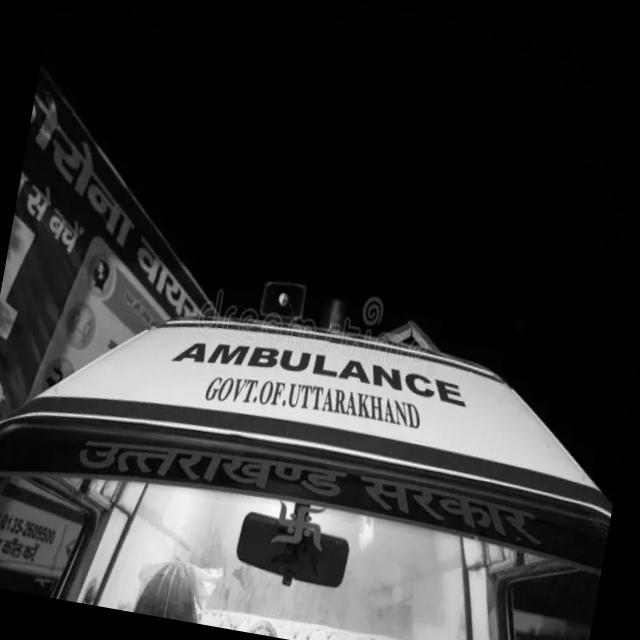ambulance: (99, 261, 512, 593), (145, 318, 488, 456)
